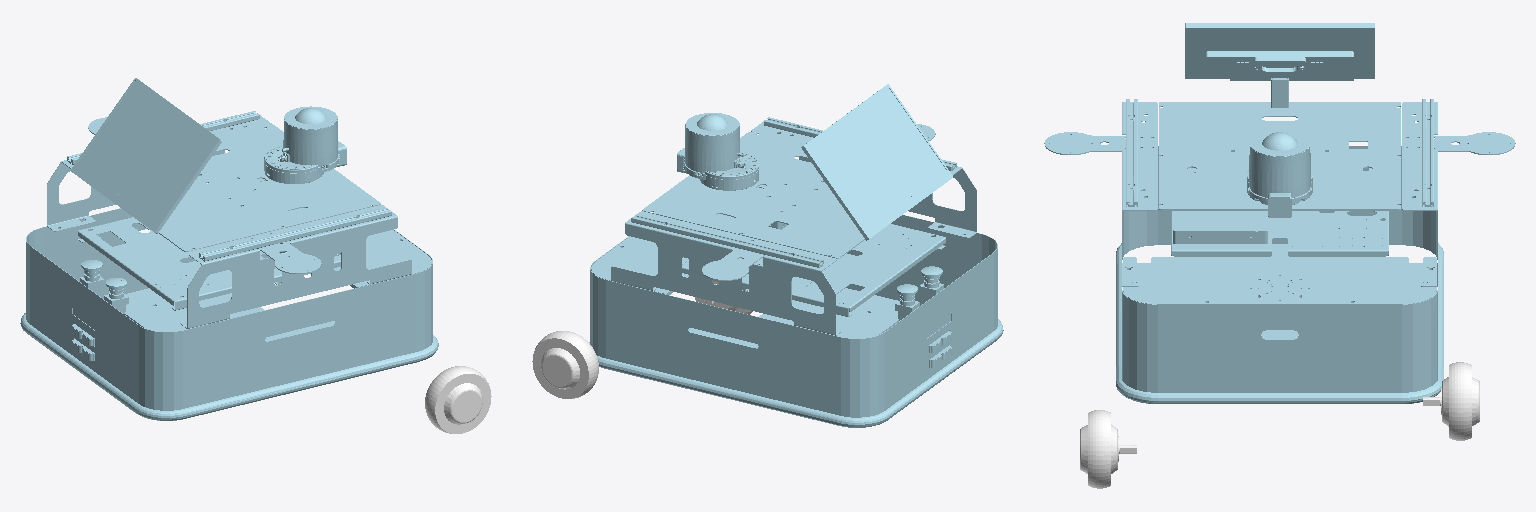
The robot description file, URDF, robot "lucsys_lsr200auto_akm_ultra":
<?xml version="1.0" encoding="utf-8"?>
<robot name="lucsys_lsr200auto_akm_ultra">
  <link name="base_link">
    <inertial>
      <origin xyz="-0.074353 0.015107 0.075824" rpy="0 0 0" />
      <mass value="11.902" />
      <inertia ixx="0.1269" ixy="6.3806E-05" ixz="-0.00080196" iyy="0.085732" iyz="-2.0152E-05" izz="0.18939" />
    </inertial>
    <visual>
      <origin xyz="0 0 0" rpy="0 0 0" />
      <geometry>
        <mesh filename="package://lucsys_lsr200auto_akm_ultra_description/meshes/lsr200auto_akm_ultra/base_link.STL" />
      </geometry>
      <material name="lucsys_material_0">
        <color rgba="0.74118 0.90196 0.95686 1" />
      </material>
    </visual>
    <collision>
      <origin xyz="0 0 0" rpy="0 0 0" />
      <geometry>
        <mesh filename="package://lucsys_lsr200auto_akm_ultra_description/meshes/lsr200auto_akm_ultra/base_link.STL" />
      </geometry>
    </collision>
  </link>
  <link name="lf_wheel_link">
    <inertial>
      <origin xyz="2.0036E-05 -0.0022382 0.0002117" rpy="0 0 0" />
      <mass value="1.102" />
      <inertia ixx="0.0060143" ixy="-4.5815E-05" ixz="-1.3207E-07" iyy="0.010609" iyz="1.3337E-05" izz="0.0060142" />
    </inertial>
    <visual>
      <origin xyz="0 0 0" rpy="0 0 0" />
      <geometry>
        <mesh filename="package://lucsys_lsr200auto_akm_ultra_description/meshes/lsr200auto_akm_ultra/lf_wheel_link.STL" />
      </geometry>
      <material name="lucsys_material_1">
        <color rgba="1 1 1 1" />
      </material>
    </visual>
    <collision>
      <origin xyz="0 0 0" rpy="0 0 0" />
      <geometry>
        <mesh filename="package://lucsys_lsr200auto_akm_ultra_description/meshes/lsr200auto_akm_ultra/lf_wheel_link.STL" />
      </geometry>
    </collision>
  </link>
  <joint name="lf_wheel_joint" type="continuous">
    <origin xyz="0.31528 0.29699 0.0066081" rpy="0 0 0" />
    <parent link="base_link" />
    <child link="lf_wheel_link" />
    <axis xyz="-0.0099394 0.99995 -0.0028981" />
  </joint>
  <link name="lb_wheel_link">
    <inertial>
      <origin xyz="-3.0408E-06 -0.002239 0.00020377" rpy="0 0 0" />
      <mass value="1.102" />
      <inertia ixx="0.0060138" ixy="-1.2787E-08" ixz="-1.7251E-10" iyy="0.010609" iyz="2.9601E-05" izz="0.0060143" />
    </inertial>
    <visual>
      <origin xyz="0 0 0" rpy="0 0 0" />
      <geometry>
        <mesh filename="package://lucsys_lsr200auto_akm_ultra_description/meshes/lsr200auto_akm_ultra/lb_wheel_link.STL" />
      </geometry>
      <material name="lucsys_material_2">
        <color rgba="1 1 1 1" />
      </material>
    </visual>
    <collision>
      <origin xyz="0 0 0" rpy="0 0 0" />
      <geometry>
        <mesh filename="package://lucsys_lsr200auto_akm_ultra_description/meshes/lsr200auto_akm_ultra/lb_wheel_link.STL" />
      </geometry>
    </collision>
  </link>
  <joint name="lb_wheel_joint" type="continuous">
    <origin xyz="-0.21055 0.29728 0.0050309" rpy="0 0 0" />
    <parent link="base_link" />
    <child link="lb_wheel_link" />
    <axis xyz="0 0.99998 -0.0064377" />
  </joint>
  <link name="rf_wheel_link">
    <inertial>
      <origin xyz="-8.2751E-05 0.0022363 -0.00021612" rpy="0 0 0" />
      <mass value="1.102" />
      <inertia ixx="0.0060143" ixy="-4.5654E-05" ixz="2.0461E-07" iyy="0.010609" iyz="-1.3299E-05" izz="0.0060142" />
    </inertial>
    <visual>
      <origin xyz="0 0 0" rpy="0 0 0" />
      <geometry>
        <mesh filename="package://lucsys_lsr200auto_akm_ultra_description/meshes/lsr200auto_akm_ultra/rf_wheel_link.STL" />
      </geometry>
      <material name="lucsys_material_3">
        <color rgba="1 1 1 1" />
      </material>
    </visual>
    <collision>
      <origin xyz="0 0 0" rpy="0 0 0" />
      <geometry>
        <mesh filename="package://lucsys_lsr200auto_akm_ultra_description/meshes/lsr200auto_akm_ultra/rf_wheel_link.STL" />
      </geometry>
    </collision>
  </link>
  <joint name="rf_wheel_joint" type="continuous">
    <origin xyz="0.31685 -0.29694 0.0070471" rpy="0 0 0" />
    <parent link="base_link" />
    <child link="rf_wheel_link" />
    <axis xyz="-0.0099394 0.99995 -0.0028981" />
  </joint>
  <link name="rb_wheel_joint">
    <inertial>
      <origin xyz="2.315E-07 0.002239 0.00020379" rpy="0 0 0" />
      <mass value="1.102" />
      <inertia ixx="0.0060138" ixy="-1.2548E-08" ixz="-3.4897E-09" iyy="0.010609" iyz="-2.9601E-05" izz="0.0060143" />
    </inertial>
    <visual>
      <origin xyz="0 0 0" rpy="0 0 0" />
      <geometry>
        <mesh filename="package://lucsys_lsr200auto_akm_ultra_description/meshes/lsr200auto_akm_ultra/rb_wheel_joint.STL" />
      </geometry>
      <material name="lucsys_material_4">
        <color rgba="1 1 1 1" />
      </material>
    </visual>
    <collision>
      <origin xyz="0 0 0" rpy="0 0 0" />
      <geometry>
        <mesh filename="package://lucsys_lsr200auto_akm_ultra_description/meshes/lsr200auto_akm_ultra/rb_wheel_joint.STL" />
      </geometry>
    </collision>
  </link>
  <joint name="rb_wheel_joint" type="continuous">
    <origin xyz="-0.21055 -0.29724 0.0050309" rpy="0 0 0" />
    <parent link="base_link" />
    <child link="rb_wheel_joint" />
    <axis xyz="0 0.99998 -0.0064377" />
  </joint>
  <link name="mushroom_link">
    <inertial>
      <origin xyz="-1.1432E-06 0.00010848 -0.028981" rpy="0 0 0" />
      <mass value="0.70507" />
      <inertia ixx="0.00083839" ixy="9.5781E-11" ixz="8.5567E-11" iyy="0.00084033" iyz="1.1975E-06" izz="0.0014378" />
    </inertial>
    <visual>
      <origin xyz="0 0 0" rpy="0 0 0" />
      <geometry>
        <mesh filename="package://lucsys_lsr200auto_akm_ultra_description/meshes/lsr200auto_akm_ultra/mushroom_link.STL" />
      </geometry>
      <material name="lucsys_material_5">
        <color rgba="0.75294 0.75294 0.75294 1" />
      </material>
    </visual>
    <collision>
      <origin xyz="0 0 0" rpy="0 0 0" />
      <geometry>
        <mesh filename="package://lucsys_lsr200auto_akm_ultra_description/meshes/lsr200auto_akm_ultra/mushroom_link.STL" />
      </geometry>
    </collision>
  </link>
  <joint name="mushroom_joint" type="fixed">
    <origin xyz="-0.12171 2.3862E-05 0.4197" rpy="0 0 0" />
    <parent link="base_link" />
    <child link="mushroom_link" />
    <axis xyz="0 0 0" />
  </joint>
  <link name="laser_link">
    <inertial>
      <origin xyz="-0.00048925 -1.7832E-05 0.0027116" rpy="0 0 0" />
      <mass value="0.28408" />
      <inertia ixx="0.00069265" ixy="-2.2006E-08" ixz="-5.1015E-06" iyy="0.00070191" iyz="-5.5999E-08" izz="0.000772" />
    </inertial>
    <visual>
      <origin xyz="0 0 0" rpy="0 0 0" />
      <geometry>
        <mesh filename="package://lucsys_lsr200auto_akm_ultra_description/meshes/lsr200auto_akm_ultra/laser_link.STL" />
      </geometry>
      <material name="lucsys_material_6">
        <color rgba="0.74118 0.90196 0.95686 1" />
      </material>
    </visual>
    <collision>
      <origin xyz="0 0 0" rpy="0 0 0" />
      <geometry>
        <mesh filename="package://lucsys_lsr200auto_akm_ultra_description/meshes/lsr200auto_akm_ultra/laser_link.STL" />
      </geometry>
    </collision>
  </link>
  <joint name="laser_joint" type="fixed">
    <origin xyz="0.17378 2.375E-05 0.3965" rpy="0 0 0" />
    <parent link="base_link" />
    <child link="laser_link" />
    <axis xyz="0 0 0" />
  </joint>
  <link name="camera_link">
    <inertial>
      <origin xyz="2.9259E-07 -6.1582E-09 3.674E-07" rpy="0 0 0" />
      <mass value="0.056458" />
      <inertia ixx="0.00013086" ixy="1.2038E-07" ixz="1.6474E-06" iyy="1.9178E-05" iyz="-2.8268E-08" izz="0.0001314" />
    </inertial>
    <visual>
      <origin xyz="0 0 0" rpy="0 0 0" />
      <geometry>
        <mesh filename="package://lucsys_lsr200auto_akm_ultra_description/meshes/lsr200auto_akm_ultra/camera_link.STL" />
      </geometry>
      <material name="lucsys_material_7">
        <color rgba="0.37647 0.37647 0.37647 1" />
      </material>
    </visual>
    <collision>
      <origin xyz="0 0 0" rpy="0 0 0" />
      <geometry>
        <mesh filename="package://lucsys_lsr200auto_akm_ultra_description/meshes/lsr200auto_akm_ultra/camera_link.STL" />
      </geometry>
    </collision>
  </link>
  <joint name="camera_joint" type="fixed">
    <origin xyz="0.3557 0.00020075 0.16458" rpy="0 0 0" />
    <parent link="base_link" />
    <child link="camera_link" />
    <axis xyz="0 0 0" />
  </joint>
</robot>

--- Render facts (derived) ---
Views: 3 orthographic renders of the robot side by side, from view 1: azimuth 30°, elevation 25°; view 2: azimuth 150°, elevation 25°; view 3: azimuth 270°, elevation 25°.
Model lucsys_lsr200auto_akm_ultra with 8 links and 7 joints (4 continuous, 3 fixed), rooted at base_link, posed all joints at 0.
Links seen in each view (by area): view 1: base_link, rf_wheel_link, laser_link; view 2: base_link, lf_wheel_link, laser_link; view 3: base_link, laser_link, lf_wheel_link, rf_wheel_link.
Link boxes in pixels (<box>): base_link: <box>20,78,438,420</box>; rf_wheel_link: <box>425,366,491,433</box>; laser_link: <box>278,106,338,172</box>; base_link: <box>589,84,1003,427</box>; lf_wheel_link: <box>532,331,598,398</box>; laser_link: <box>684,113,745,179</box>; base_link: <box>1044,23,1515,403</box>; laser_link: <box>1248,131,1311,204</box>; lf_wheel_link: <box>1423,362,1479,440</box>; rf_wheel_link: <box>1080,410,1136,488</box>.
Size in the robot's own frame: 0.7018 by 0.7764 by 0.6404 metres.
4 mesh visuals loaded from 8 distinct referenced files (4 binary STL); not drawn: 4 (reference not matched to a file when rendering).
